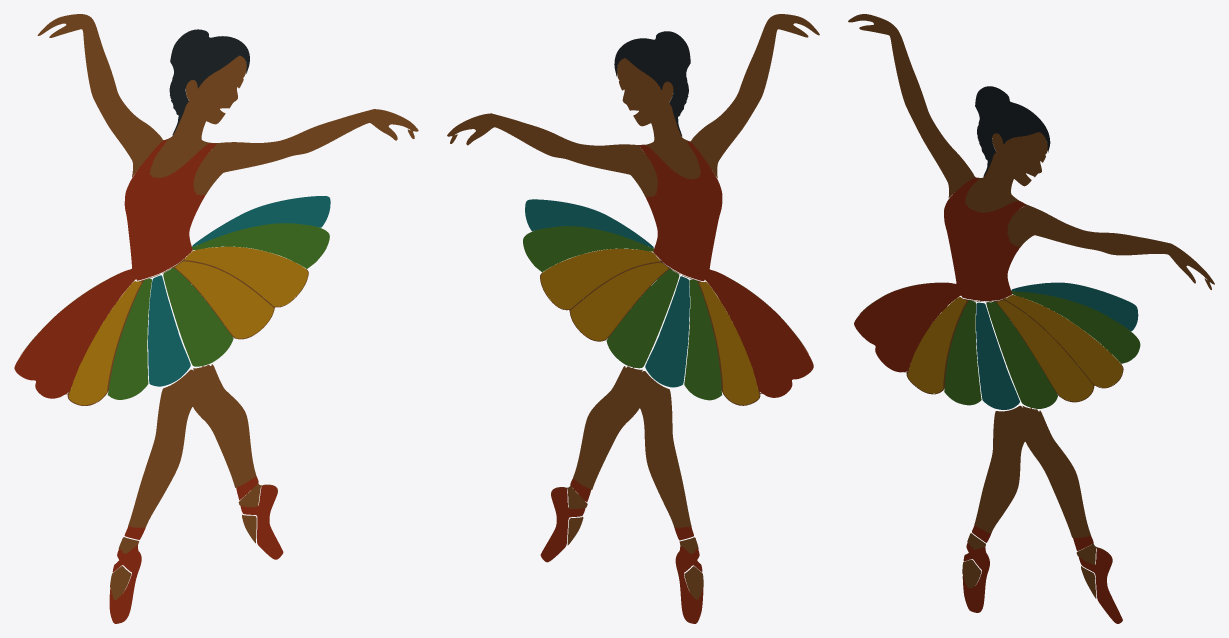
The picture shows the model from 3 angles, left to right: view 1: azimuth 30°, elevation 25°; view 2: azimuth 150°, elevation 25°; view 3: azimuth 330°, elevation 25°; orthographic projection. The views are drawn at different scales.
Parts seen in each view (by area): view 1: path1592, path1588, path1596, path1590, path1594, path1582; view 2: path1592, path1588, path1596, path1590, path1594, path1582; view 3: path1592, path1588, path1596, path1590, path1594, path1582.
Part boxes in pixels (bbox=[...]): path1592: bbox=[20, 14, 418, 600]; path1588: bbox=[14, 139, 283, 623]; path1596: bbox=[68, 246, 307, 405]; path1590: bbox=[107, 223, 329, 399]; path1594: bbox=[148, 196, 330, 386]; path1582: bbox=[169, 29, 249, 135]; path1592: bbox=[447, 14, 819, 600]; path1588: bbox=[540, 140, 813, 623]; path1596: bbox=[540, 248, 759, 404]; path1590: bbox=[523, 226, 721, 400]; path1594: bbox=[525, 199, 689, 387]; path1582: bbox=[614, 31, 690, 136]; path1592: bbox=[848, 14, 1214, 598]; path1588: bbox=[854, 177, 1122, 623]; path1596: bbox=[907, 295, 1122, 401]; path1590: bbox=[944, 290, 1140, 408]; path1594: bbox=[976, 282, 1138, 409]; path1582: bbox=[975, 86, 1050, 176].
Bounding box in the file's own units: 0.23 × 0.3582 × 0.0282.
